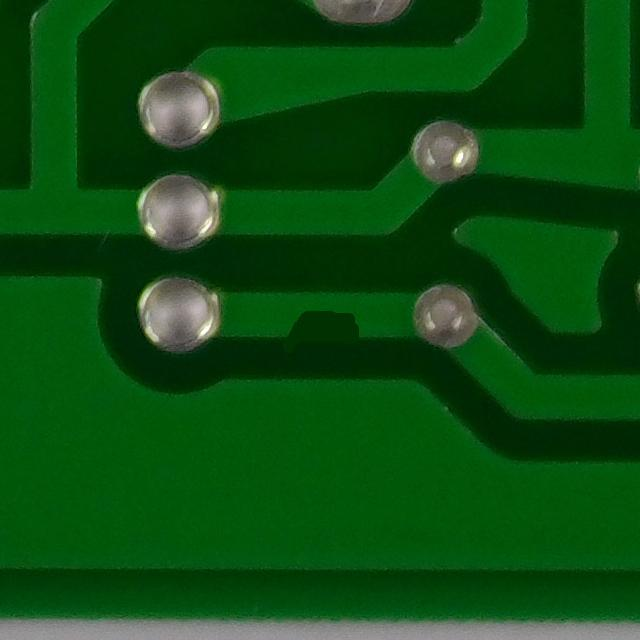mouse_bite: (270, 283, 370, 357)
